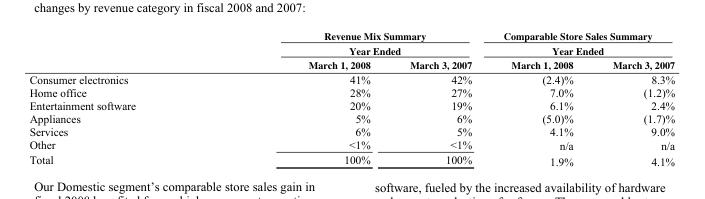table: (28, 28, 674, 167)
table column: (28, 28, 221, 167), (221, 28, 389, 167), (486, 28, 592, 167), (389, 28, 486, 167), (592, 28, 674, 167)
table column header: (28, 28, 674, 72)
table row: (28, 28, 674, 57), (28, 57, 674, 72), (28, 137, 674, 152), (28, 152, 674, 167), (28, 72, 674, 85), (28, 85, 674, 98), (28, 98, 674, 111), (28, 111, 674, 124), (28, 124, 674, 137)
table spanning cell: (221, 28, 486, 57), (486, 28, 674, 57)
